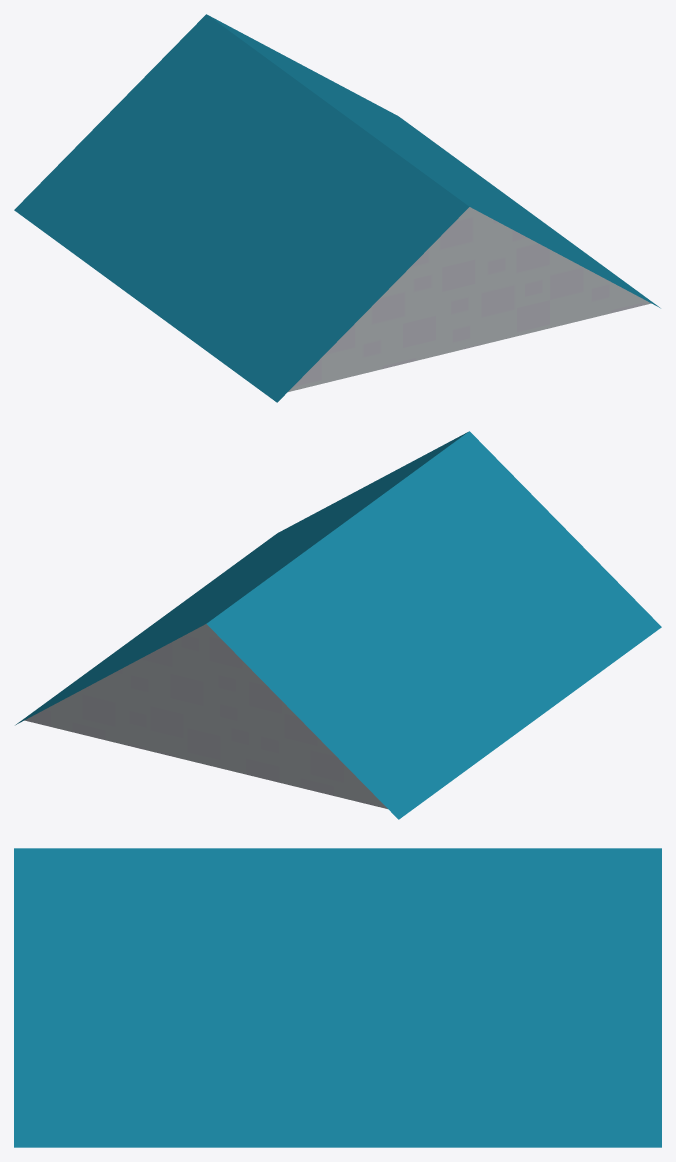
File: smith_s486-511_floor1.glb
3 renders of one model, top to bottom at view 1: azimuth 30°, elevation 25°; view 2: azimuth 150°, elevation 25°; view 3: azimuth 270°, elevation 25°, orthographic. The views are drawn at different scales.
Parts seen in each view (by area): view 1: smith_s486-511_floor1; view 2: smith_s486-511_floor1; view 3: smith_s486-511_floor1.
Boxes of the visible parts, left/top/right/bottom form: smith_s486-511_floor1: left=14, top=14, right=660, bottom=402; smith_s486-511_floor1: left=15, top=431, right=661, bottom=819; smith_s486-511_floor1: left=14, top=848, right=661, bottom=1147.
Bounding box in the file's own units: 5.4 × 2 × 6.4.
Materials: 2 (1 with a texture image).
